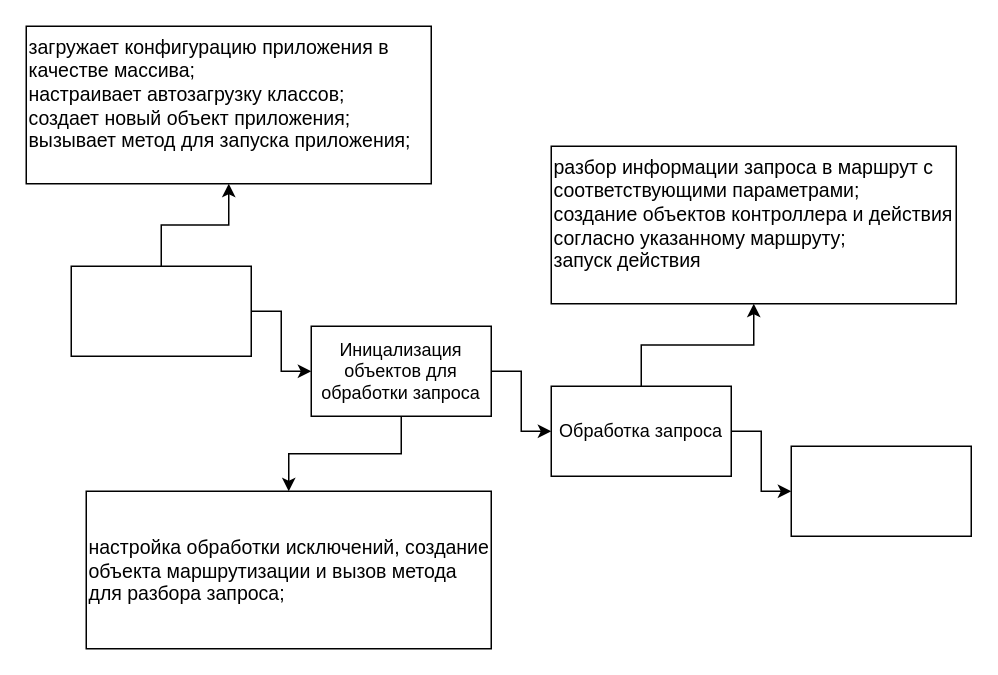
Image size: 998x675. Some labels were removed from this diagram. The centre of each missing label's shape, as x and y in pixels:
"Входной скрипт" goes at point 160,310.
"Ответ конечному пользователю" goes at point 880,490.
